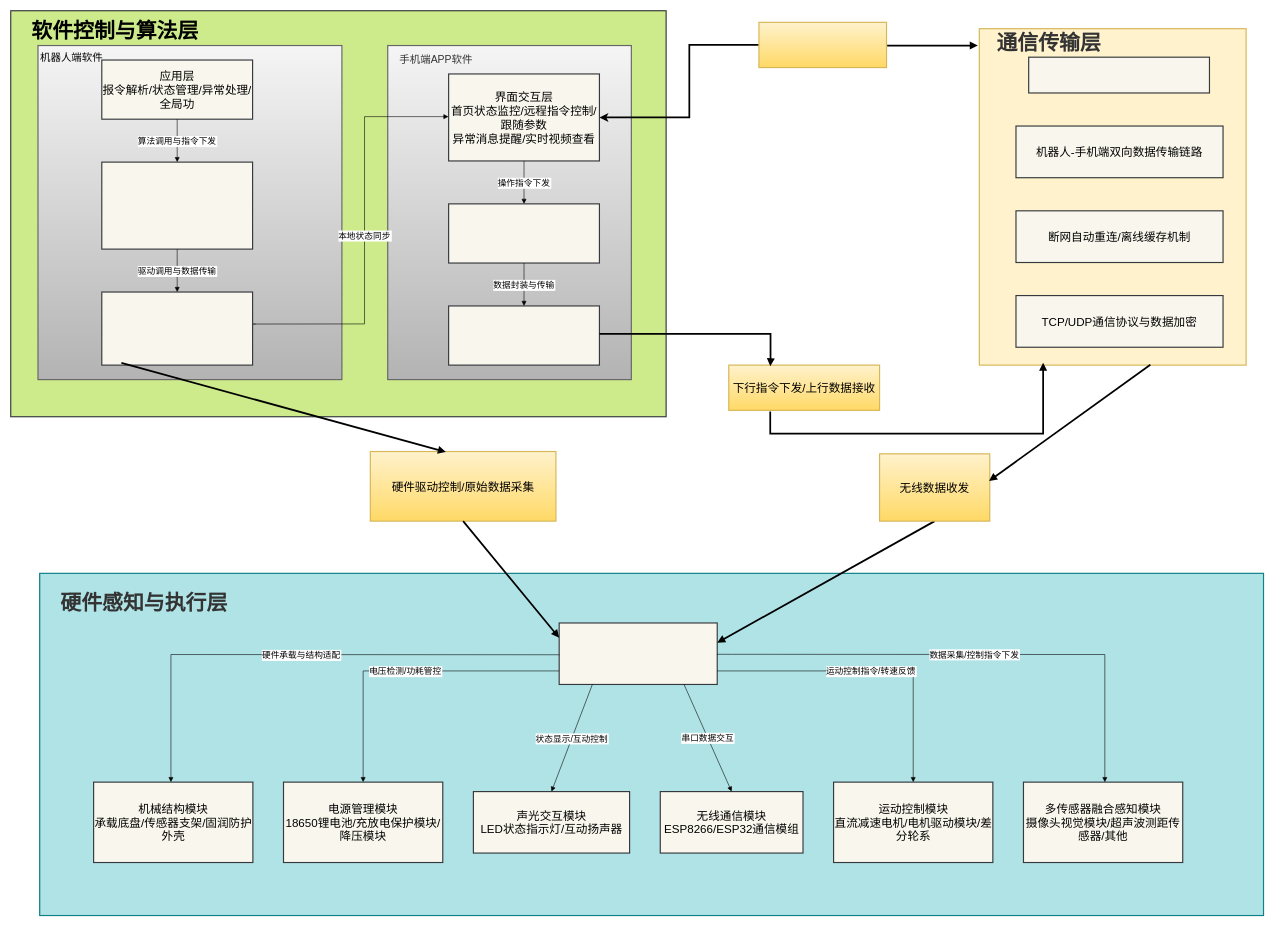
This 1274x926 diagram has some shape labels left out. The centre of each missing label's shape, as x and y in pixels:
Wi-Fi/BLE双模无线通信: (x=1119, y=74)
上行数据上传/下行指令接收: (x=822, y=44)
主控核心模块 STM32主芯片/最小系统电路: (x=638, y=653)
底层驱动层 传感器驱动/电机驱动/通信驱动 声光驱动/电源管理驱动: (x=177, y=328)
数据处理层 数据解析/本地存储/指令编码/视频流: (x=524, y=233)
算法层 目标识别算法/多传感器融合算法 自适应跟随算法/动态避障算法: (x=177, y=205)
通信适配层 连接管理/双向数据收发/自动重连/加: (x=524, y=335)
